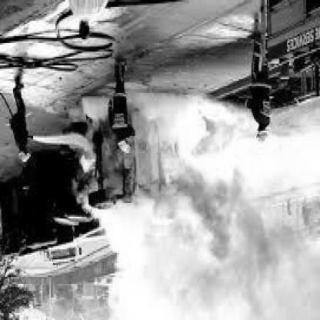other: (14, 149, 32, 165)
